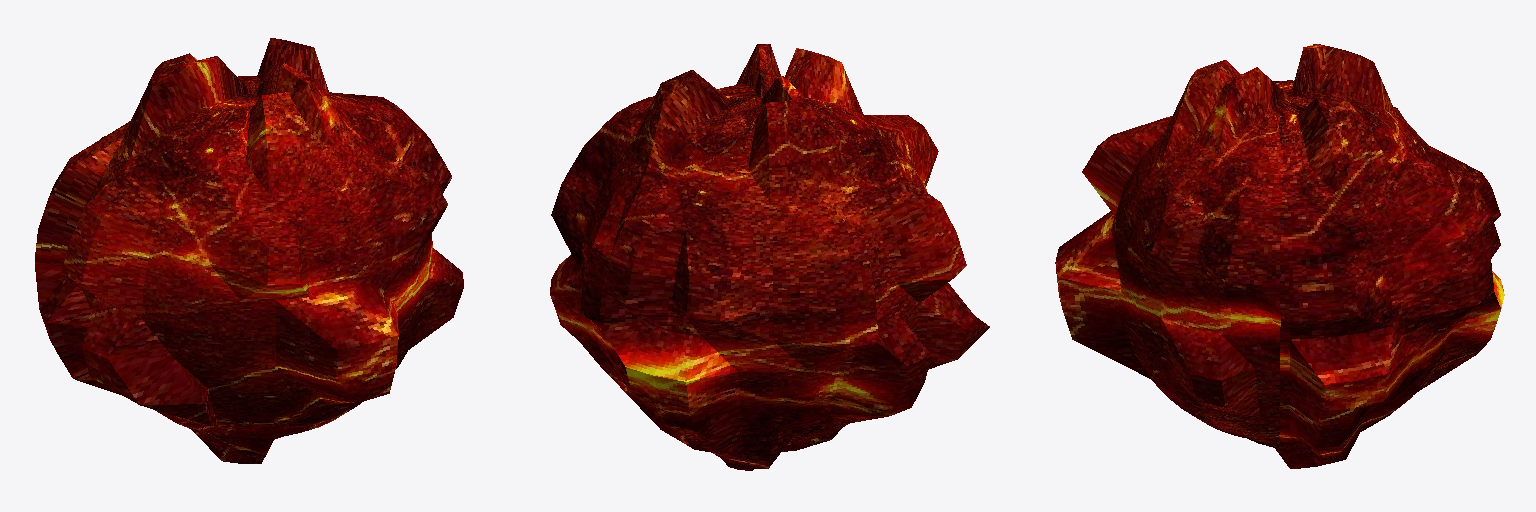
3 views of the same model, side by side, from view 1: azimuth 30°, elevation 25°; view 2: azimuth 150°, elevation 25°; view 3: azimuth 270°, elevation 25° (orthographic).
Parts seen in each view (by area): view 1: Sphere001; view 2: Sphere001; view 3: Sphere001.
Part boxes in pixels (left/top/right/bottom): Sphere001: left=35, top=38, right=463, bottom=463; Sphere001: left=550, top=44, right=989, bottom=470; Sphere001: left=1055, top=44, right=1504, bottom=468.
Size of the model in its own units: 1.2 by 1.18 by 1.23.
1 materials, 1 textured.